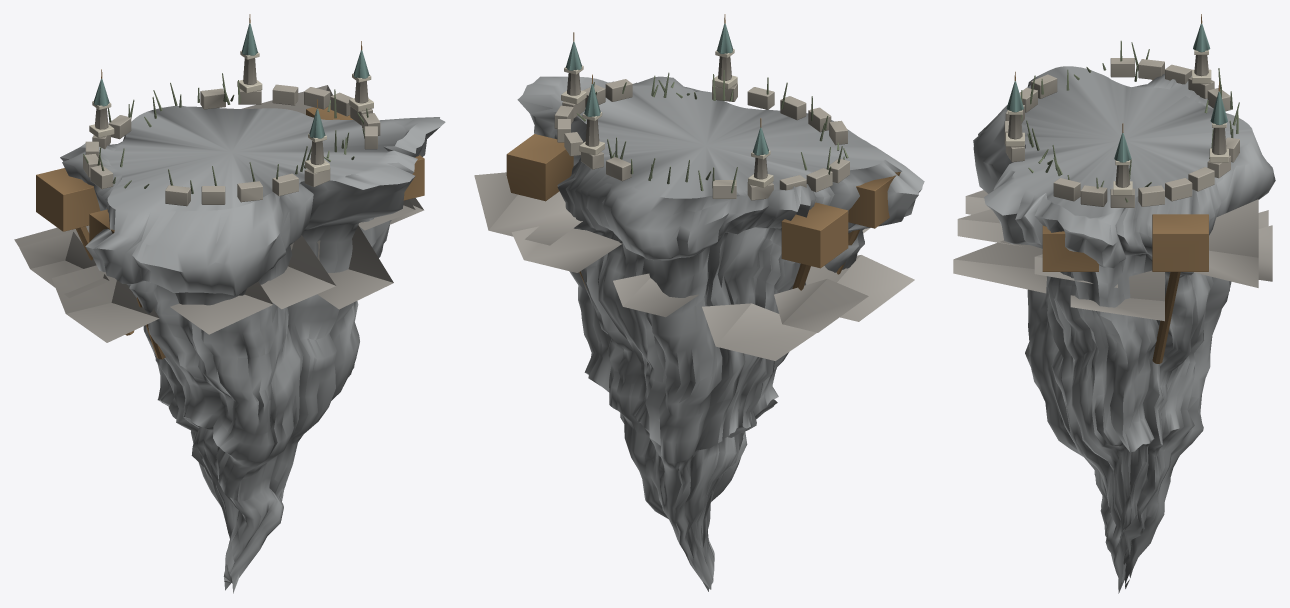
File: editor-island-shard.glb
3 renders of one model, left to right at view 1: azimuth 30°, elevation 25°; view 2: azimuth 150°, elevation 25°; view 3: azimuth 270°, elevation 25°, orthographic. The views are drawn at different scales.
Parts seen in each view (by area): view 1: island-shard__rock, island-shard__rock_light, island-shard__limestone, island-shard__bronze, island-shard__moss, island-shard__pale, island-shard__copper; view 2: island-shard__rock, island-shard__rock_light, island-shard__bronze, island-shard__limestone, island-shard__moss, island-shard__pale, island-shard__copper; view 3: island-shard__rock, island-shard__rock_light, island-shard__limestone, island-shard__bronze, island-shard__copper, island-shard__moss, island-shard__pale.
Part boxes in pixels (x1,y1,x2,y2): island-shard__rock: (60, 105, 445, 593); island-shard__rock_light: (14, 85, 423, 342); island-shard__limestone: (83, 58, 380, 206); island-shard__bronze: (36, 14, 424, 359); island-shard__moss: (83, 73, 368, 193); island-shard__pale: (89, 50, 373, 173); island-shard__copper: (93, 23, 369, 138); island-shard__rock: (517, 76, 924, 591); island-shard__rock_light: (474, 172, 914, 360); island-shard__bronze: (506, 14, 900, 290); island-shard__limestone: (554, 56, 849, 200); island-shard__moss: (576, 70, 848, 193); island-shard__pale: (561, 49, 773, 187); island-shard__copper: (565, 23, 768, 155); island-shard__rock: (973, 66, 1275, 593); island-shard__rock_light: (953, 190, 1272, 321); island-shard__limestone: (1004, 55, 1239, 207); island-shard__bronze: (1014, 14, 1219, 363); island-shard__copper: (1006, 23, 1227, 162); island-shard__moss: (1021, 40, 1239, 202); island-shard__pale: (1005, 49, 1228, 195).
Size of the model in its own units: 125 by 171 by 91.4.
